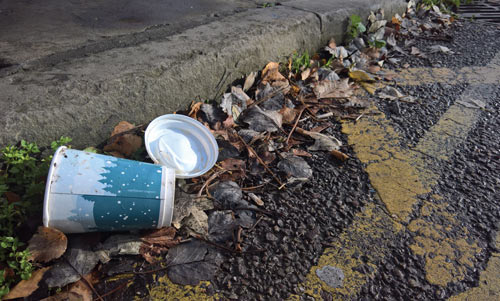cup: (34, 134, 192, 256)
